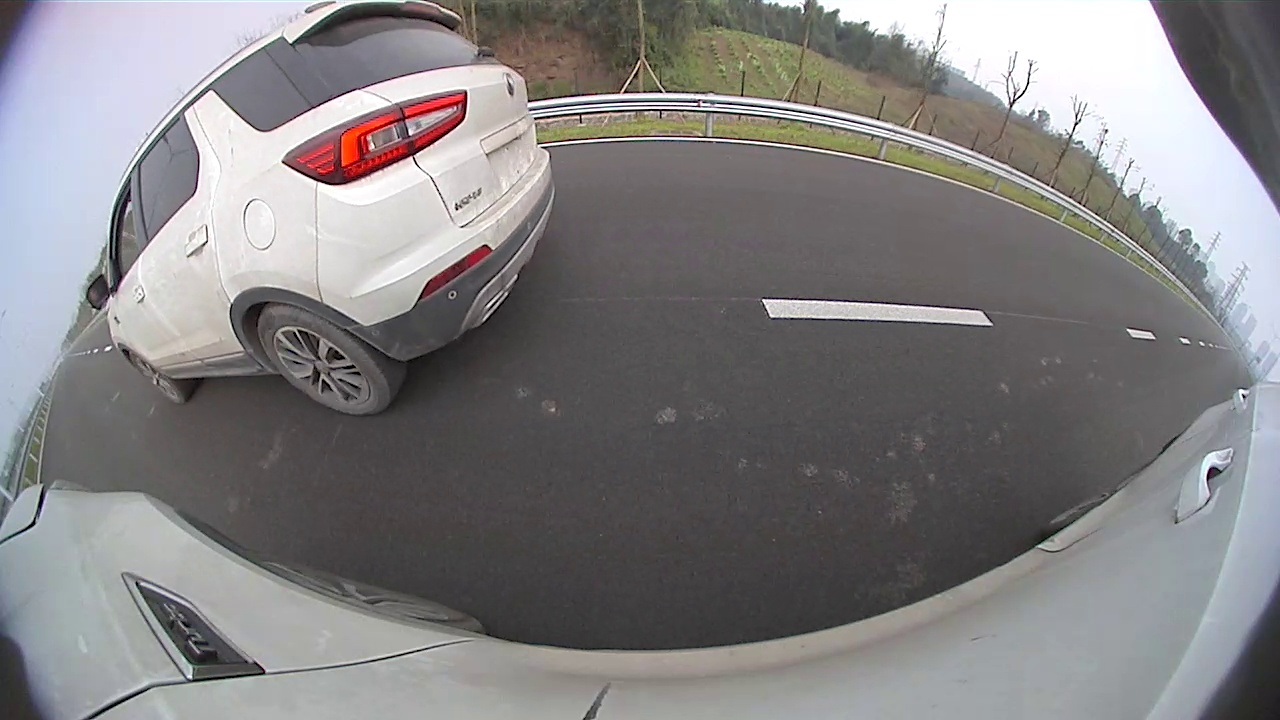car: (85, 1, 556, 415)
front: (130, 352, 186, 404)
rear: (257, 304, 392, 414)
